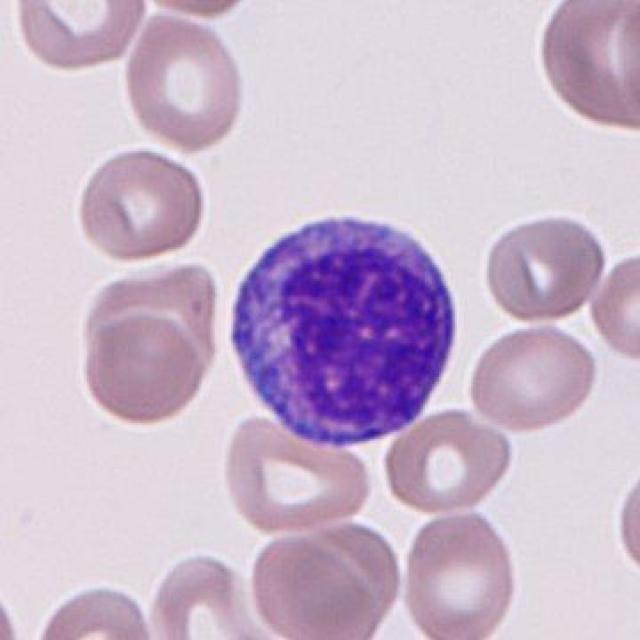RBC: (215, 409, 377, 537), (117, 9, 251, 155), (397, 503, 522, 640), (462, 316, 603, 436), (244, 526, 388, 640), (73, 144, 208, 263), (80, 308, 210, 427), (379, 406, 517, 516), (482, 206, 610, 324), (535, 0, 640, 137), (146, 546, 270, 640), (9, 0, 151, 75), (30, 576, 160, 640), (588, 249, 640, 363), (613, 452, 640, 590), (611, 0, 640, 128), (130, 0, 265, 21), (0, 580, 25, 638)
